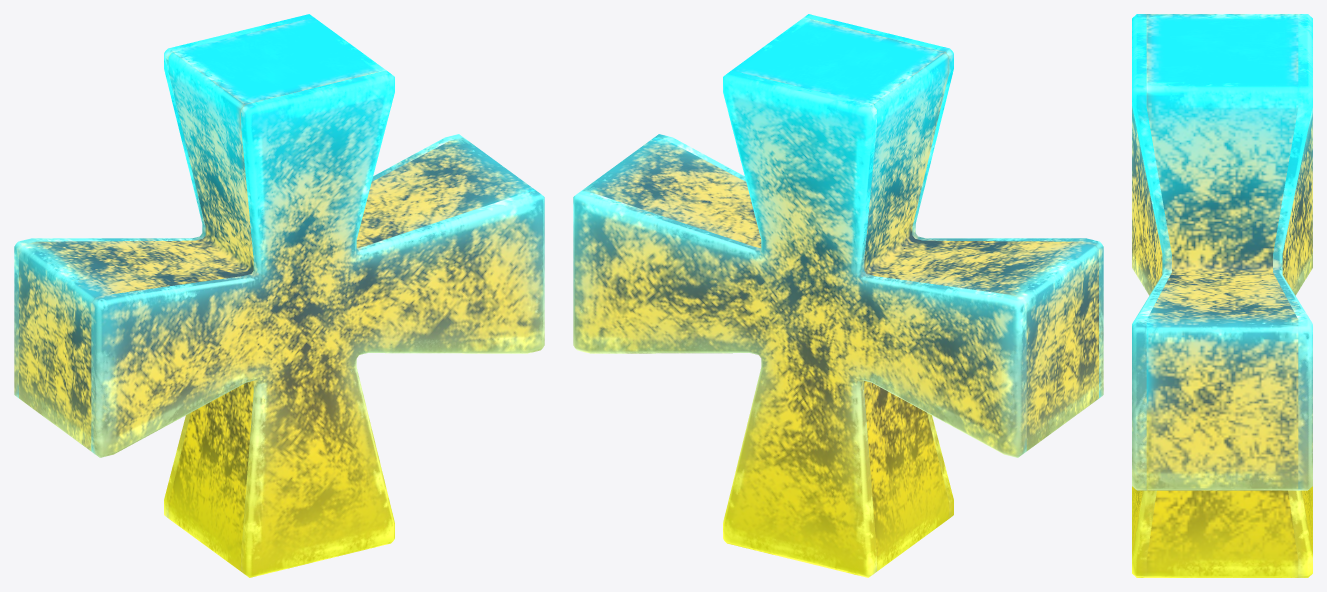
File: health.glb
3 renders of one model, left to right at view 1: azimuth 30°, elevation 25°; view 2: azimuth 150°, elevation 25°; view 3: azimuth 270°, elevation 25°, orthographic. The views are drawn at different scales.
Parts seen in each view (by area): view 1: SM_Plus_01; view 2: SM_Plus_01; view 3: SM_Plus_01.
Boxes of the visible parts, x1,y1,x2,y2 form: SM_Plus_01: (14,14,544,577); SM_Plus_01: (573,14,1103,577); SM_Plus_01: (1132,14,1312,577).
Size of the model in its own units: 2 by 2 by 0.6667.
Materials: 1 (1 with a texture image).
